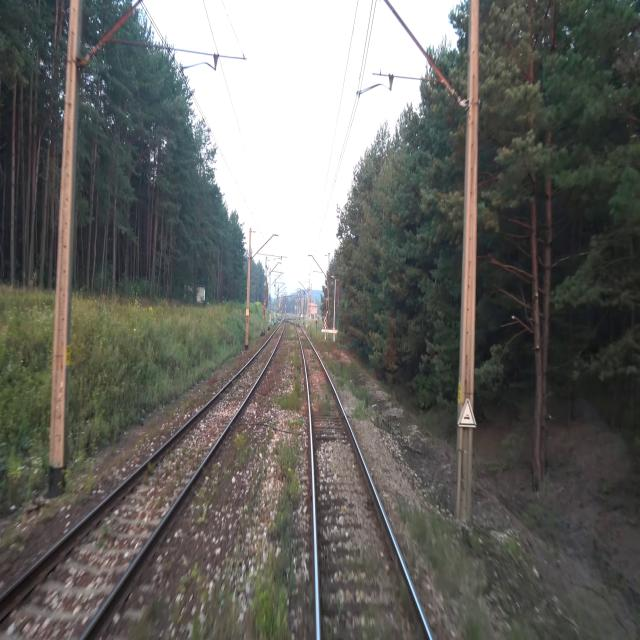rail-track: (0, 321, 284, 639), (297, 326, 428, 639)
